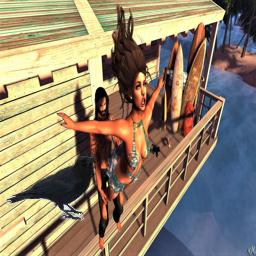Crow: (6, 155, 96, 221)
